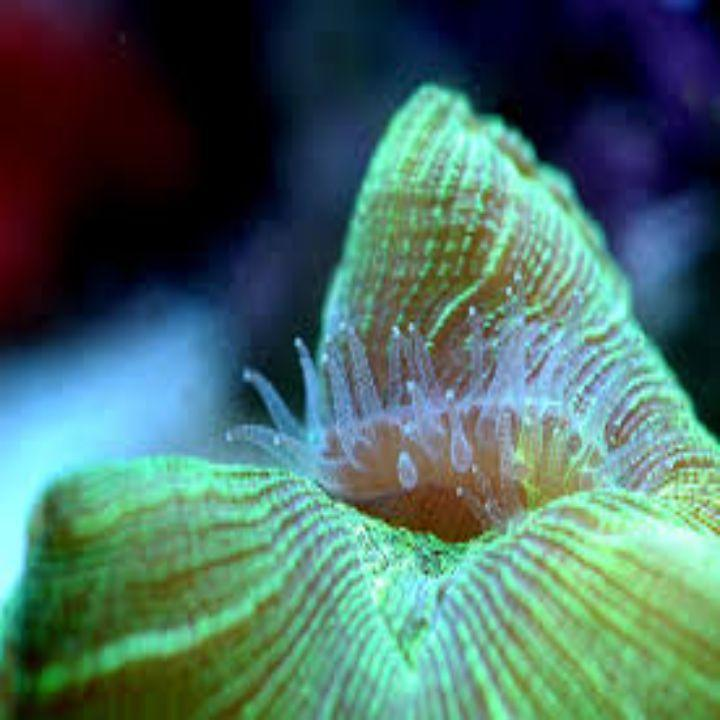Healthy Coral: (344, 68, 710, 491), (33, 499, 649, 708)
